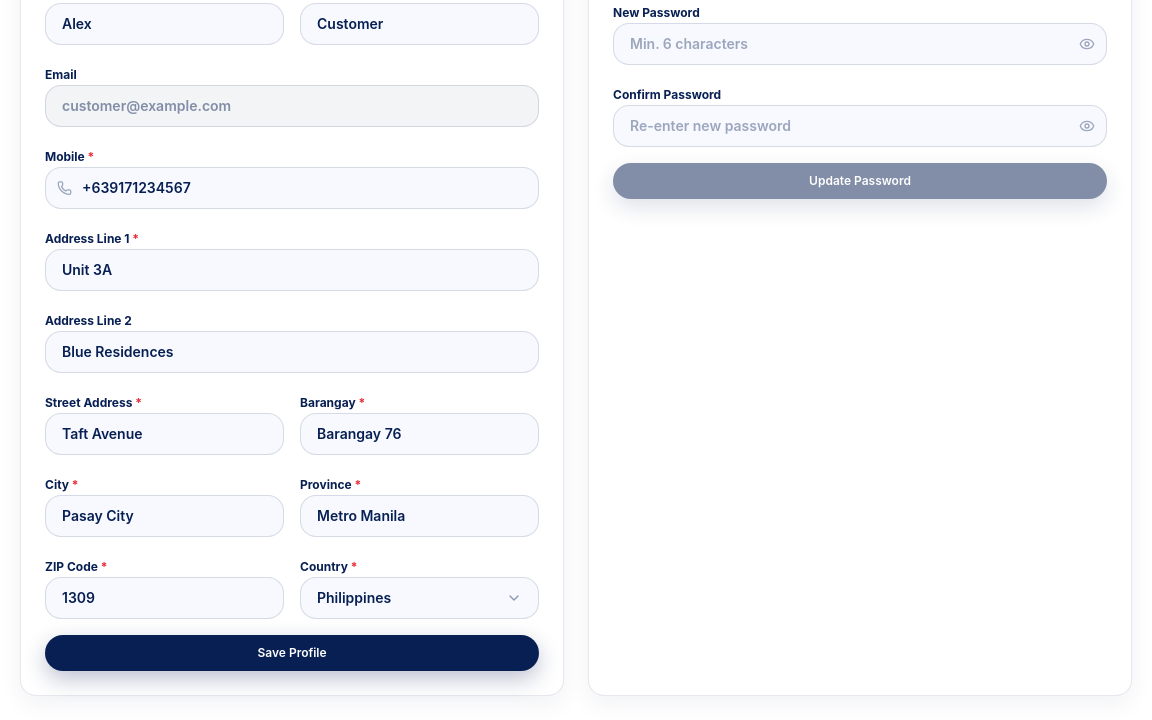
Profile › searches and selects a country from the full list
(page scrolled)
Click the button with aria-label "Country".
click(420, 598)  # box [300,577,539,619]
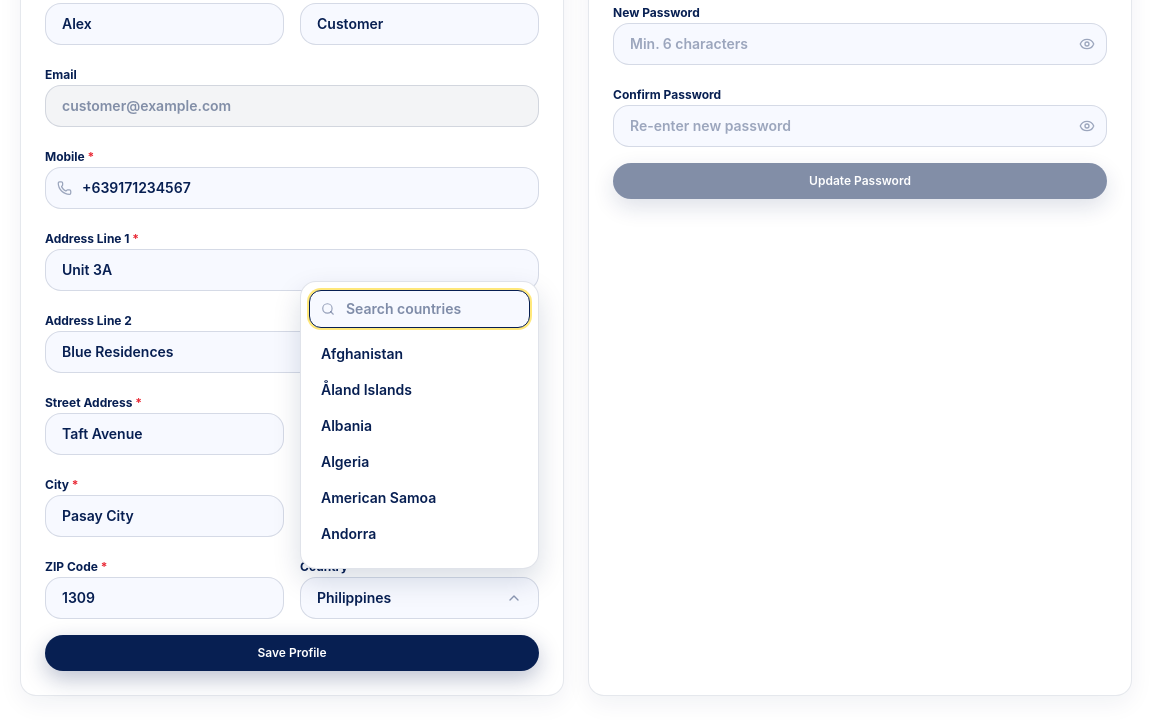
Type "Canada" into the field labelled "Search countries".
click(420, 309); type("Canada")  # box [309,290,530,328]
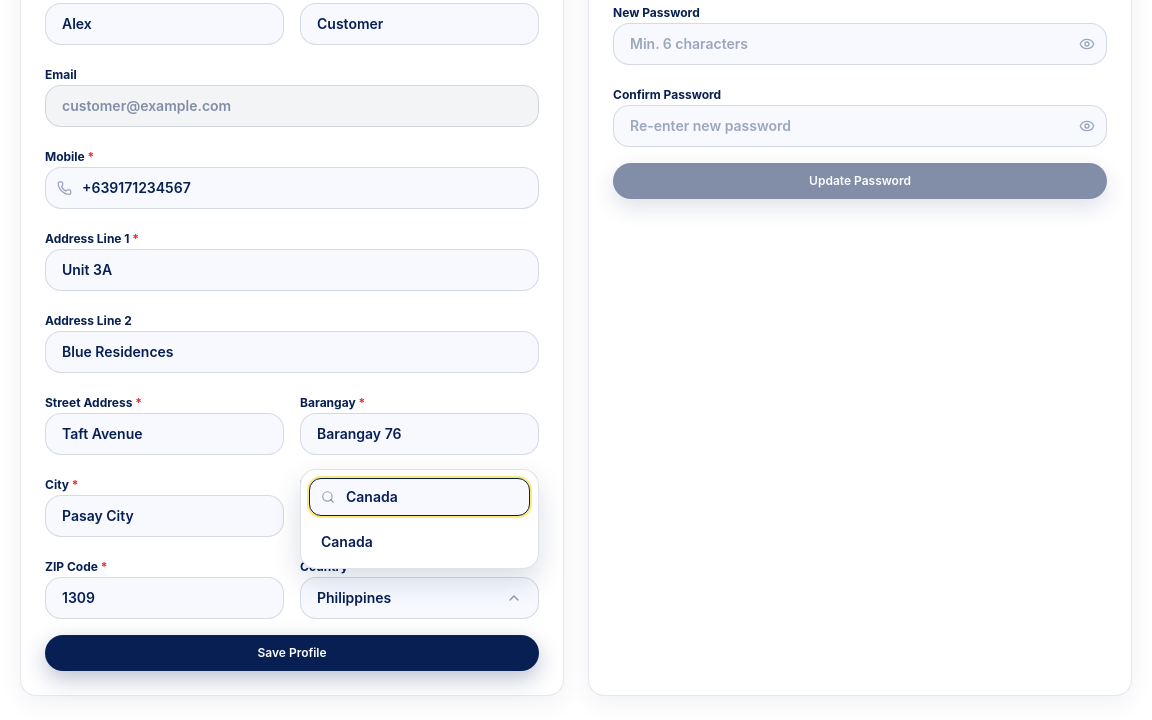
Click the option "Canada".
click(420, 542)  # box [309,524,530,560]
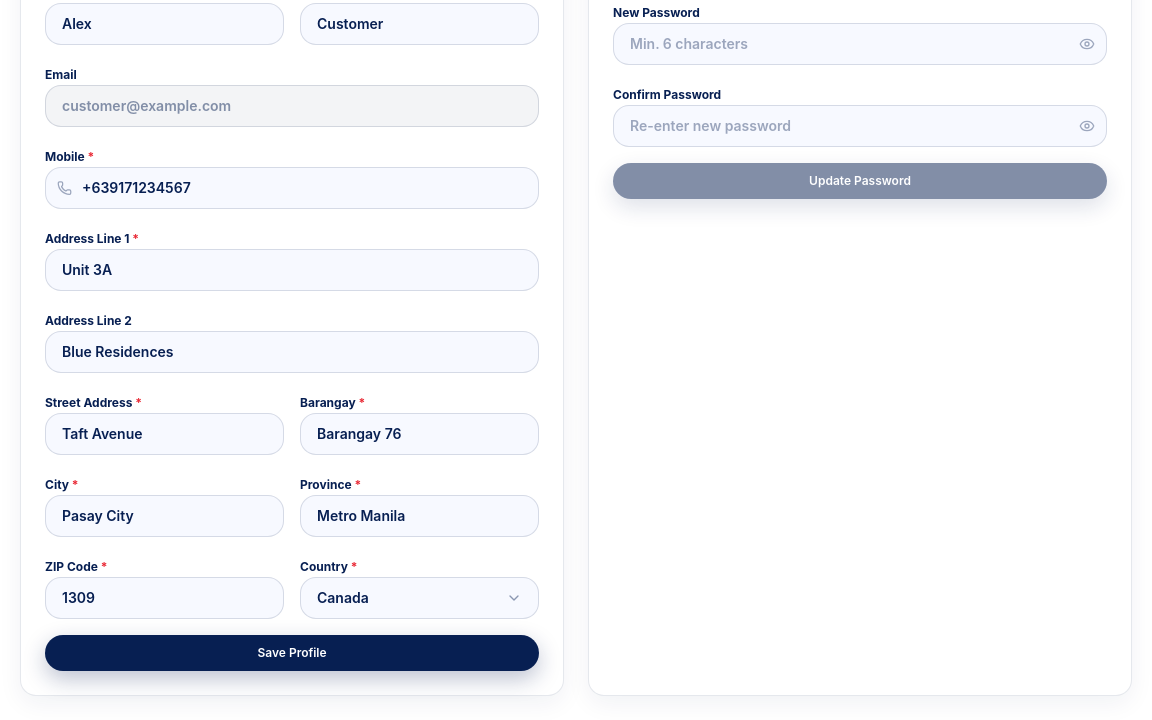
Result: the button with aria-label "Country" reads "Canada" at [300,577,539,619]
